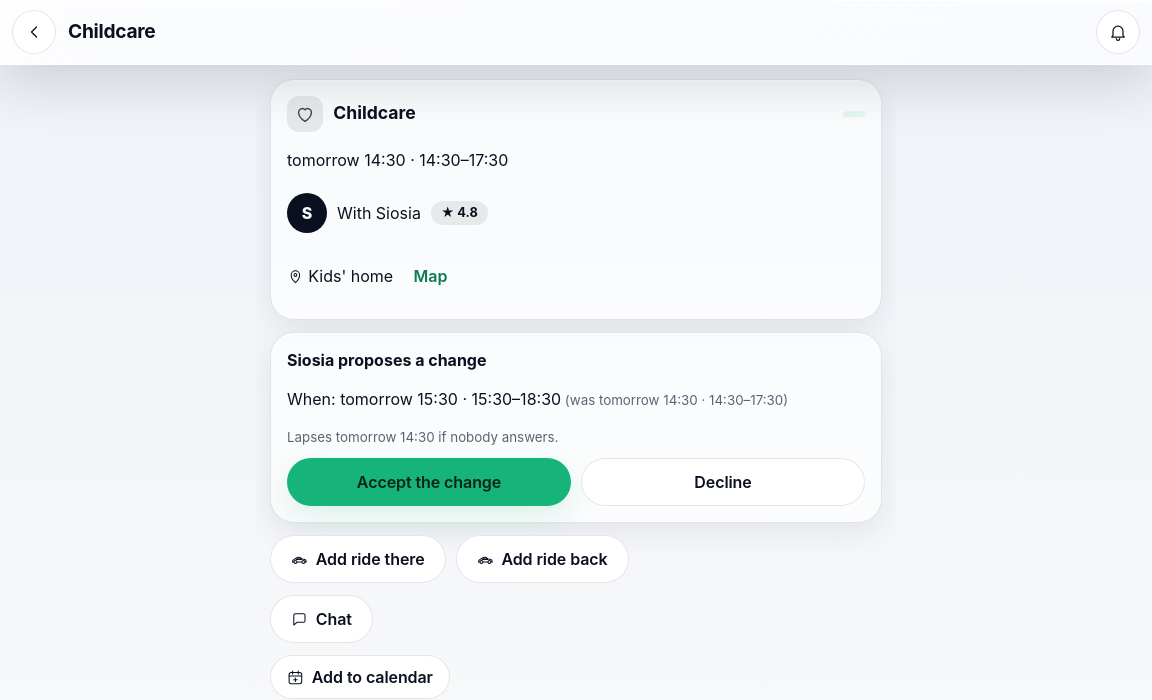
Test case: 2.14 review fixes (B15) › an overlap on accepting names the provider's clash to the client; the provider reads their own
Later steps or results of the test are not shown.
Click the button with test id "change-accept" at (429, 482), box [287,458,571,506]
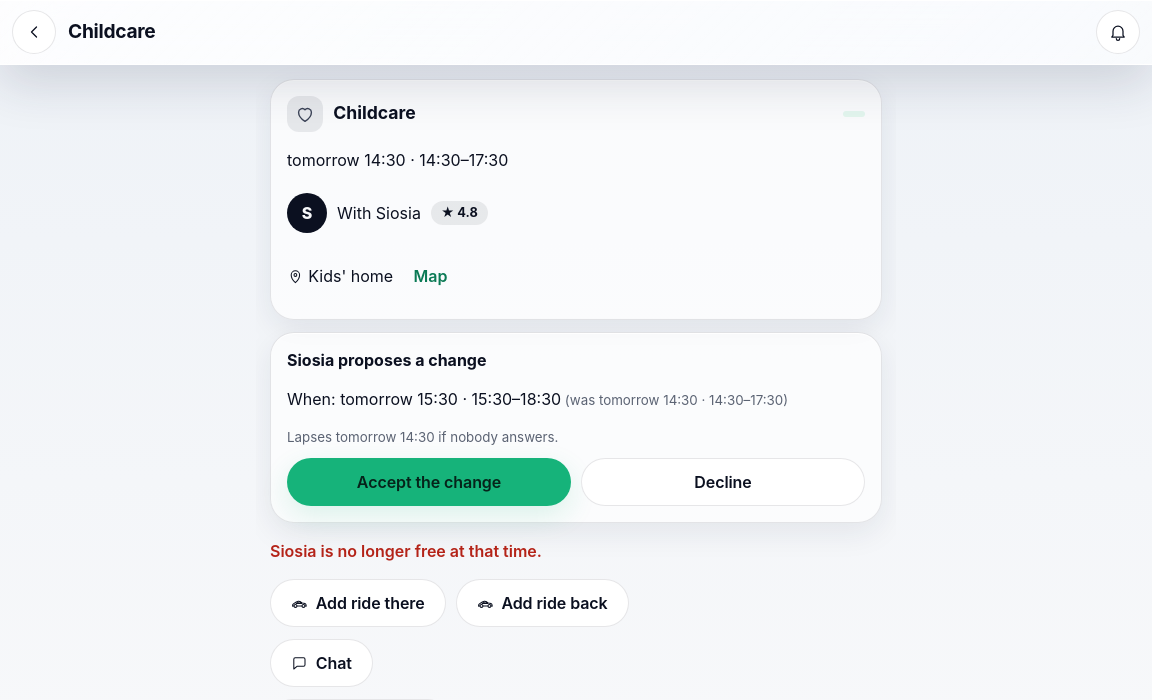
Expected: the message reads "Siosia is no longer free at that time.", [270,541,542,561]
